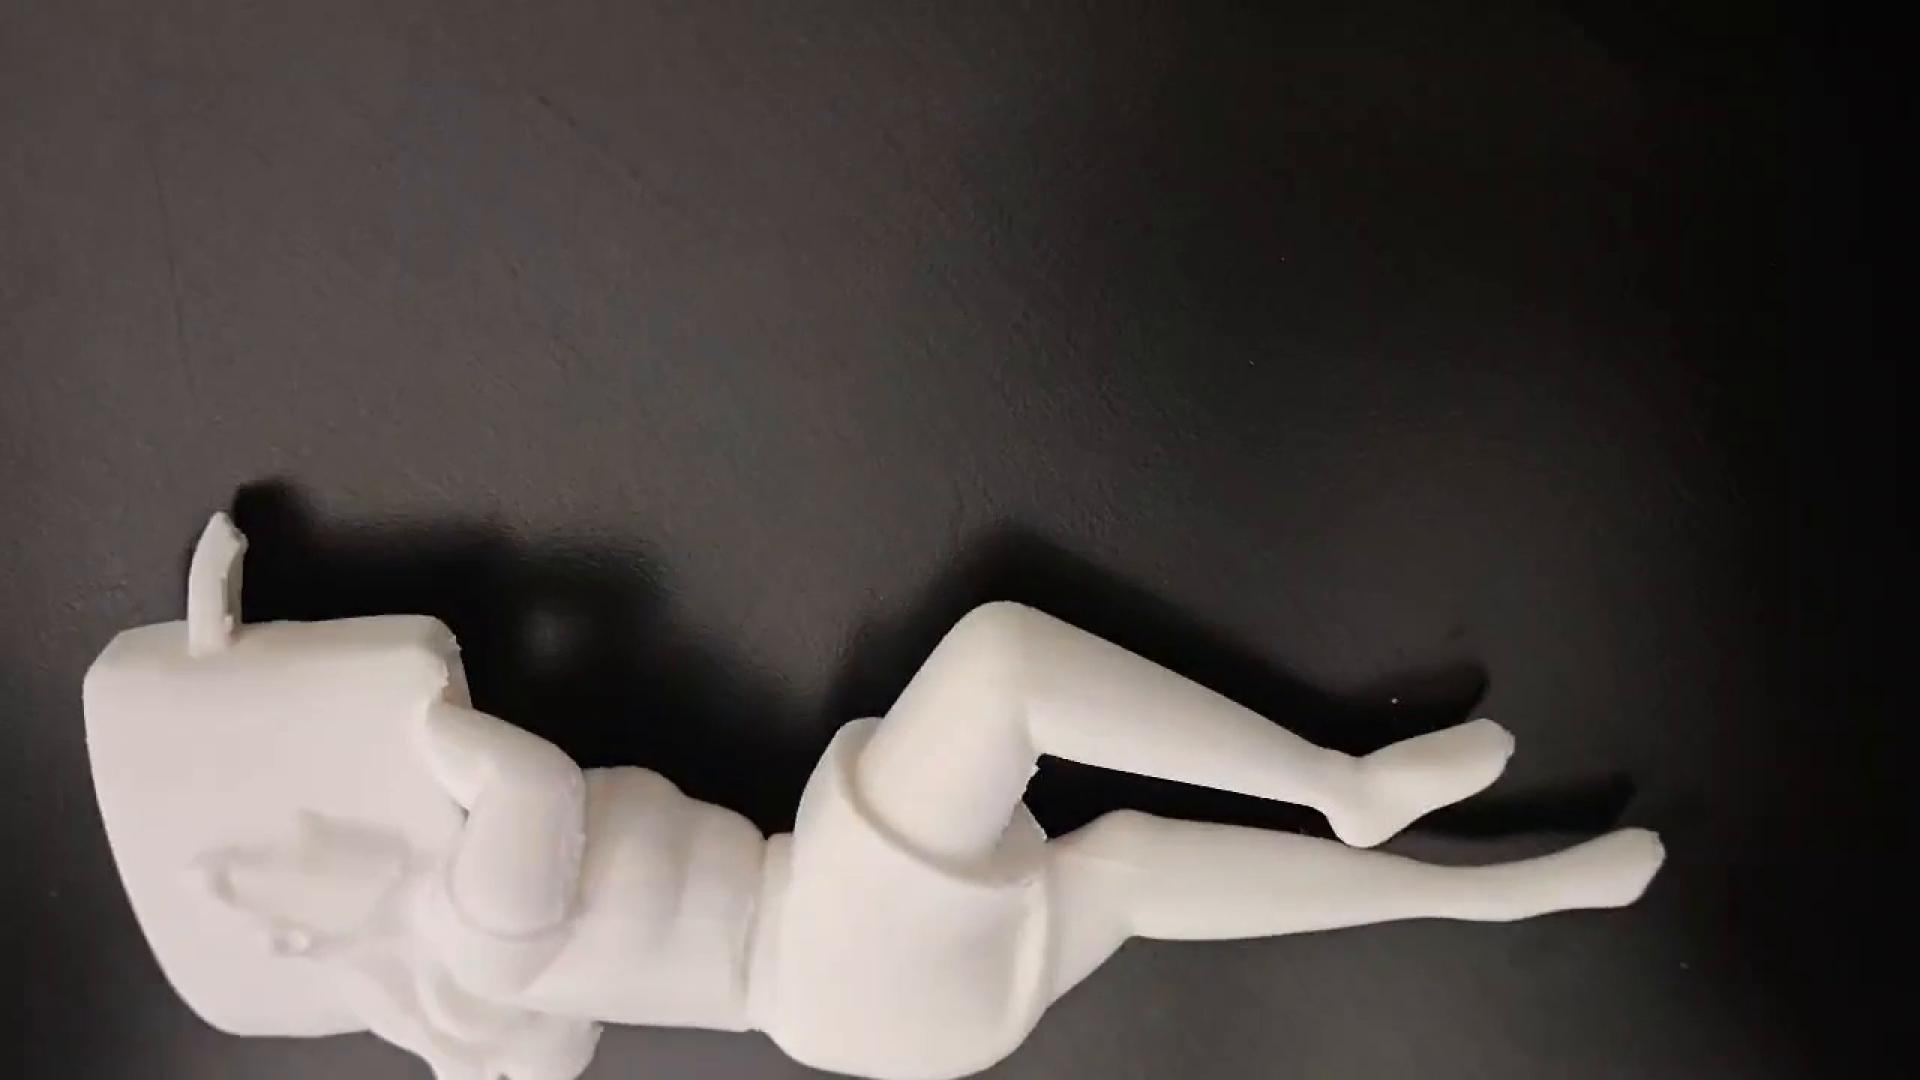Good-style: (76, 512, 1687, 1080)
